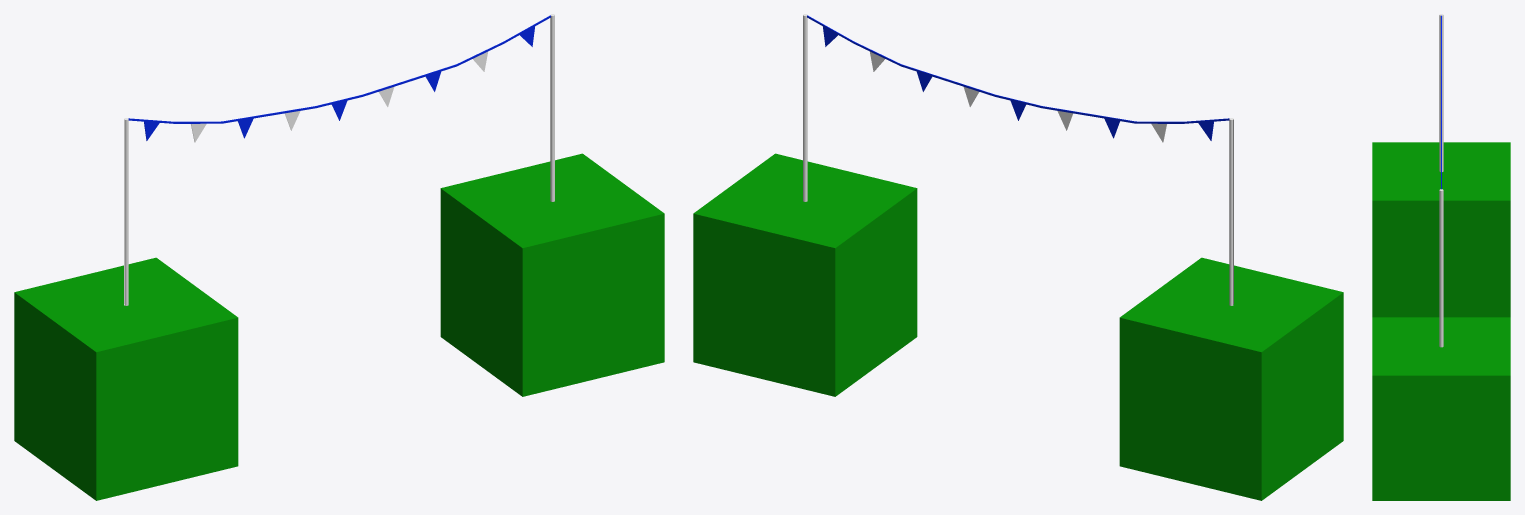
File: FlagsStraight.obj
3 renders of one model, left to right at view 1: azimuth 30°, elevation 25°; view 2: azimuth 150°, elevation 25°; view 3: azimuth 270°, elevation 25°, orthographic. The views are drawn at different scales.
Parts seen in each view (by area): view 1: Cube_Cube_Material.001, Cube_Cube_Material.002, Cube_Cube_Material.006; view 2: Cube_Cube_Material.001, Cube_Cube_Material.002, Cube_Cube_Material.006; view 3: Cube_Cube_Material.001, Cube_Cube_Material.002, Cube_Cube_Material.006.
Part boxes in pixels (left/top/right/bottom): Cube_Cube_Material.001: left=14, top=153, right=664, bottom=500; Cube_Cube_Material.002: left=124, top=14, right=554, bottom=305; Cube_Cube_Material.006: left=128, top=15, right=550, bottom=140; Cube_Cube_Material.001: left=693, top=153, right=1343, bottom=500; Cube_Cube_Material.002: left=803, top=14, right=1233, bottom=305; Cube_Cube_Material.006: left=807, top=15, right=1229, bottom=140; Cube_Cube_Material.001: left=1372, top=142, right=1510, bottom=500; Cube_Cube_Material.002: left=1439, top=14, right=1443, bottom=347; Cube_Cube_Material.006: left=1441, top=15, right=1441, bottom=189.
Bounding box in the file's own units: 8 × 4.5 × 2.
